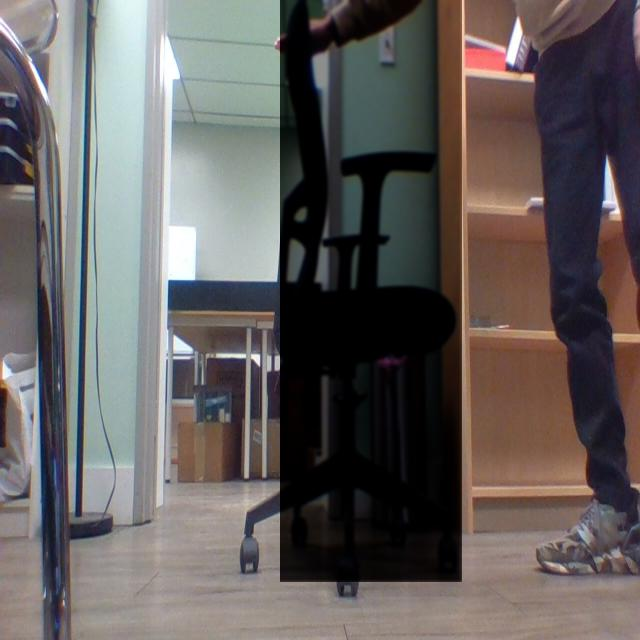black-chair: (280, 0, 463, 583)
